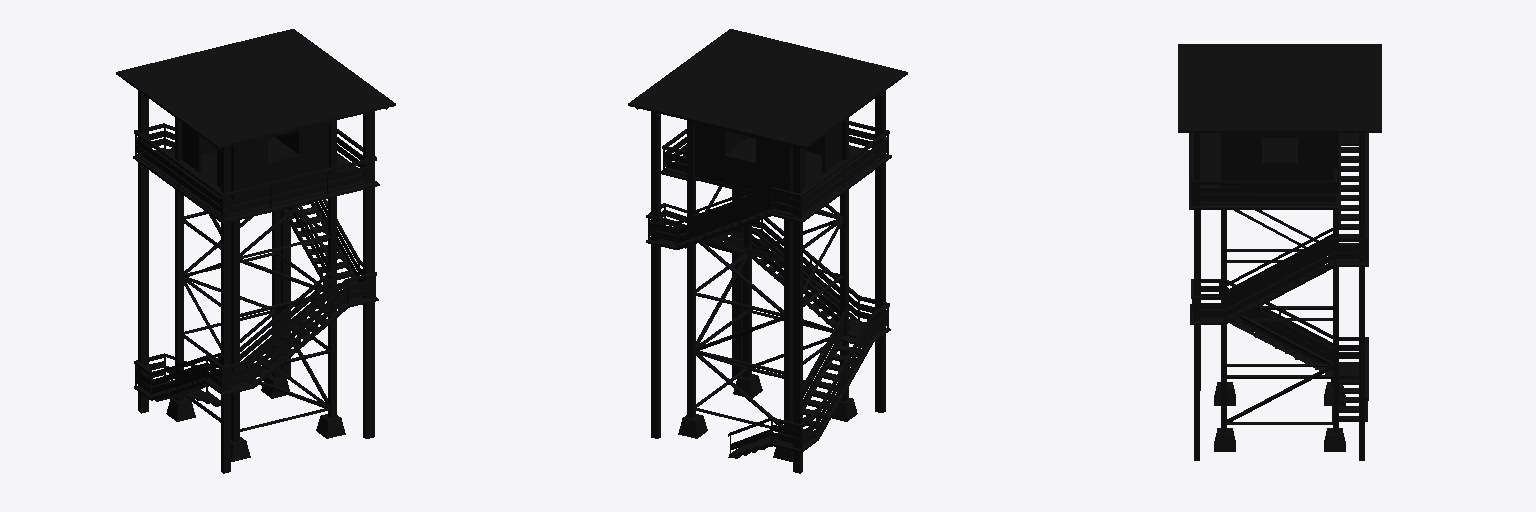
File: watch_tower.obj
3 views of the same model, side by side, from view 1: azimuth 30°, elevation 25°; view 2: azimuth 150°, elevation 25°; view 3: azimuth 270°, elevation 25° (orthographic).
Visible parts, largest first — view 1: watchtowerHigh_watchtower; view 2: watchtowerHigh_watchtower; view 3: watchtowerHigh_watchtower.
Part boxes in pixels (x1,y1,x2,y2): watchtowerHigh_watchtower: (116, 29, 395, 473); watchtowerHigh_watchtower: (628, 29, 907, 473); watchtowerHigh_watchtower: (1178, 44, 1381, 460).
Size of the model in its own units: 4.22 by 7.65 by 4.22.